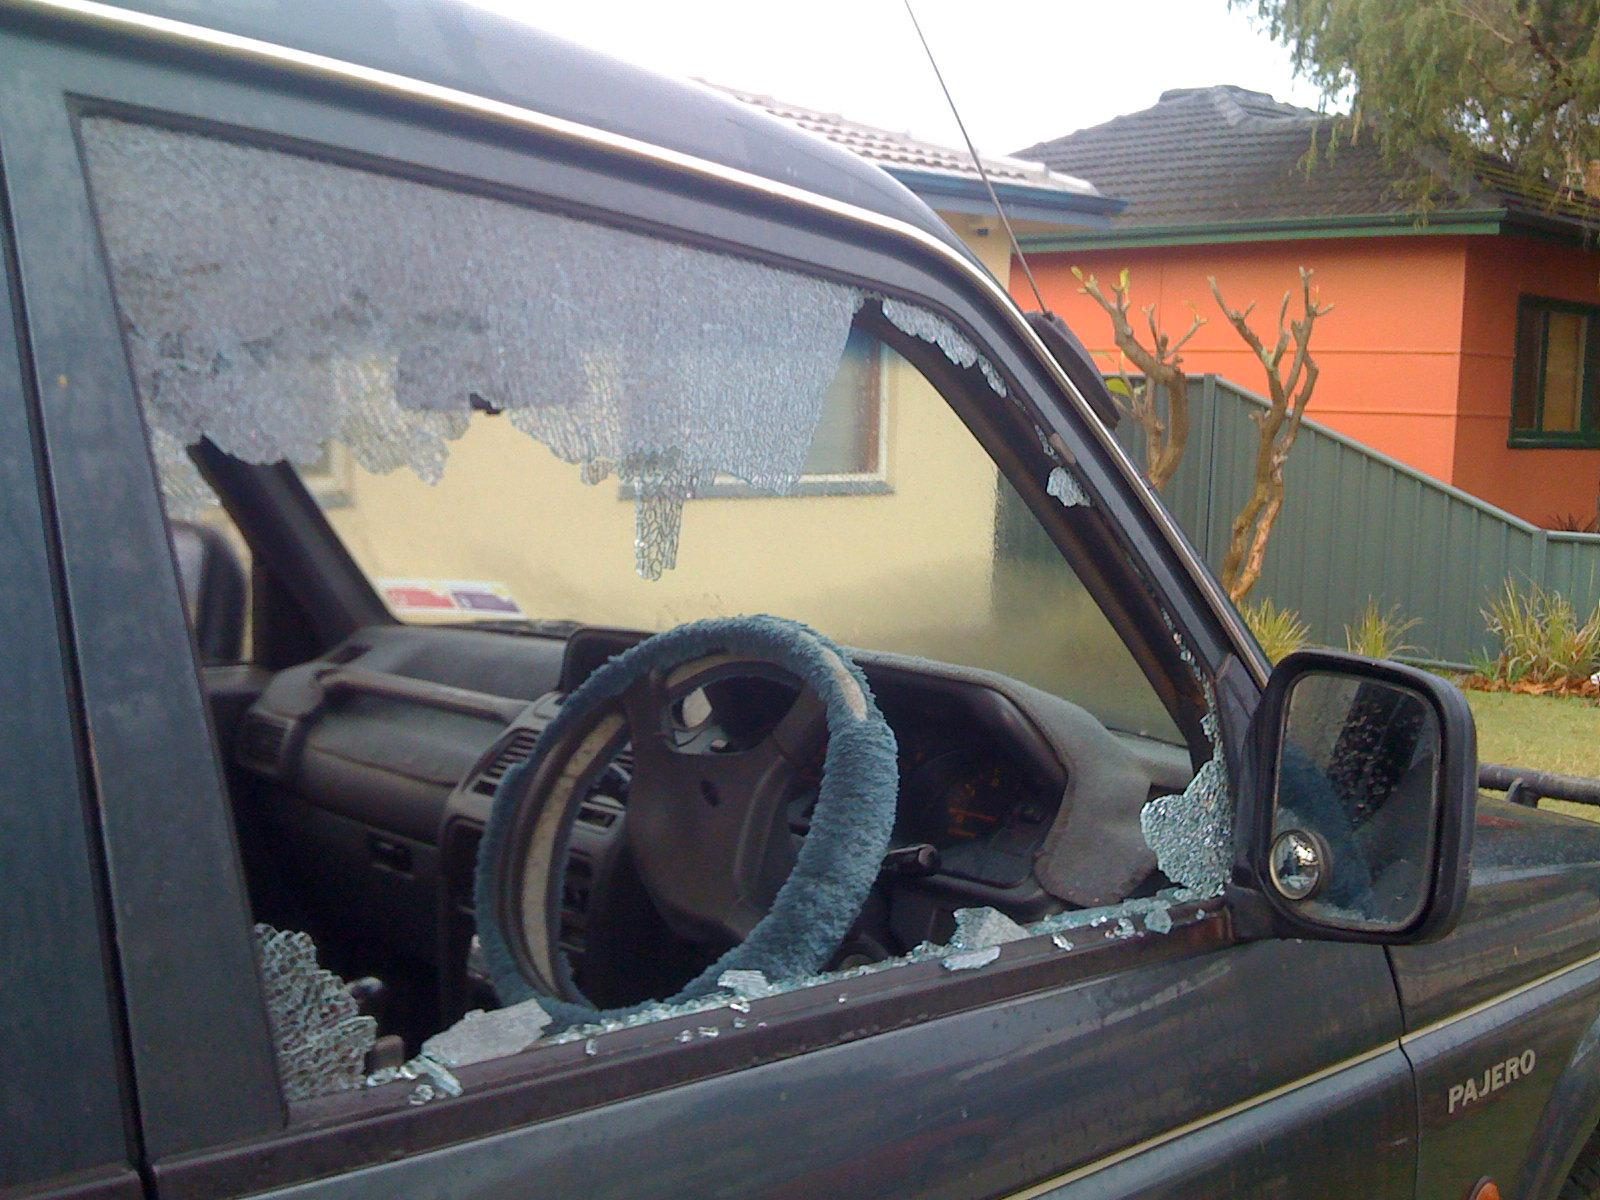doorouter-dent: (84, 73, 1170, 1199)
